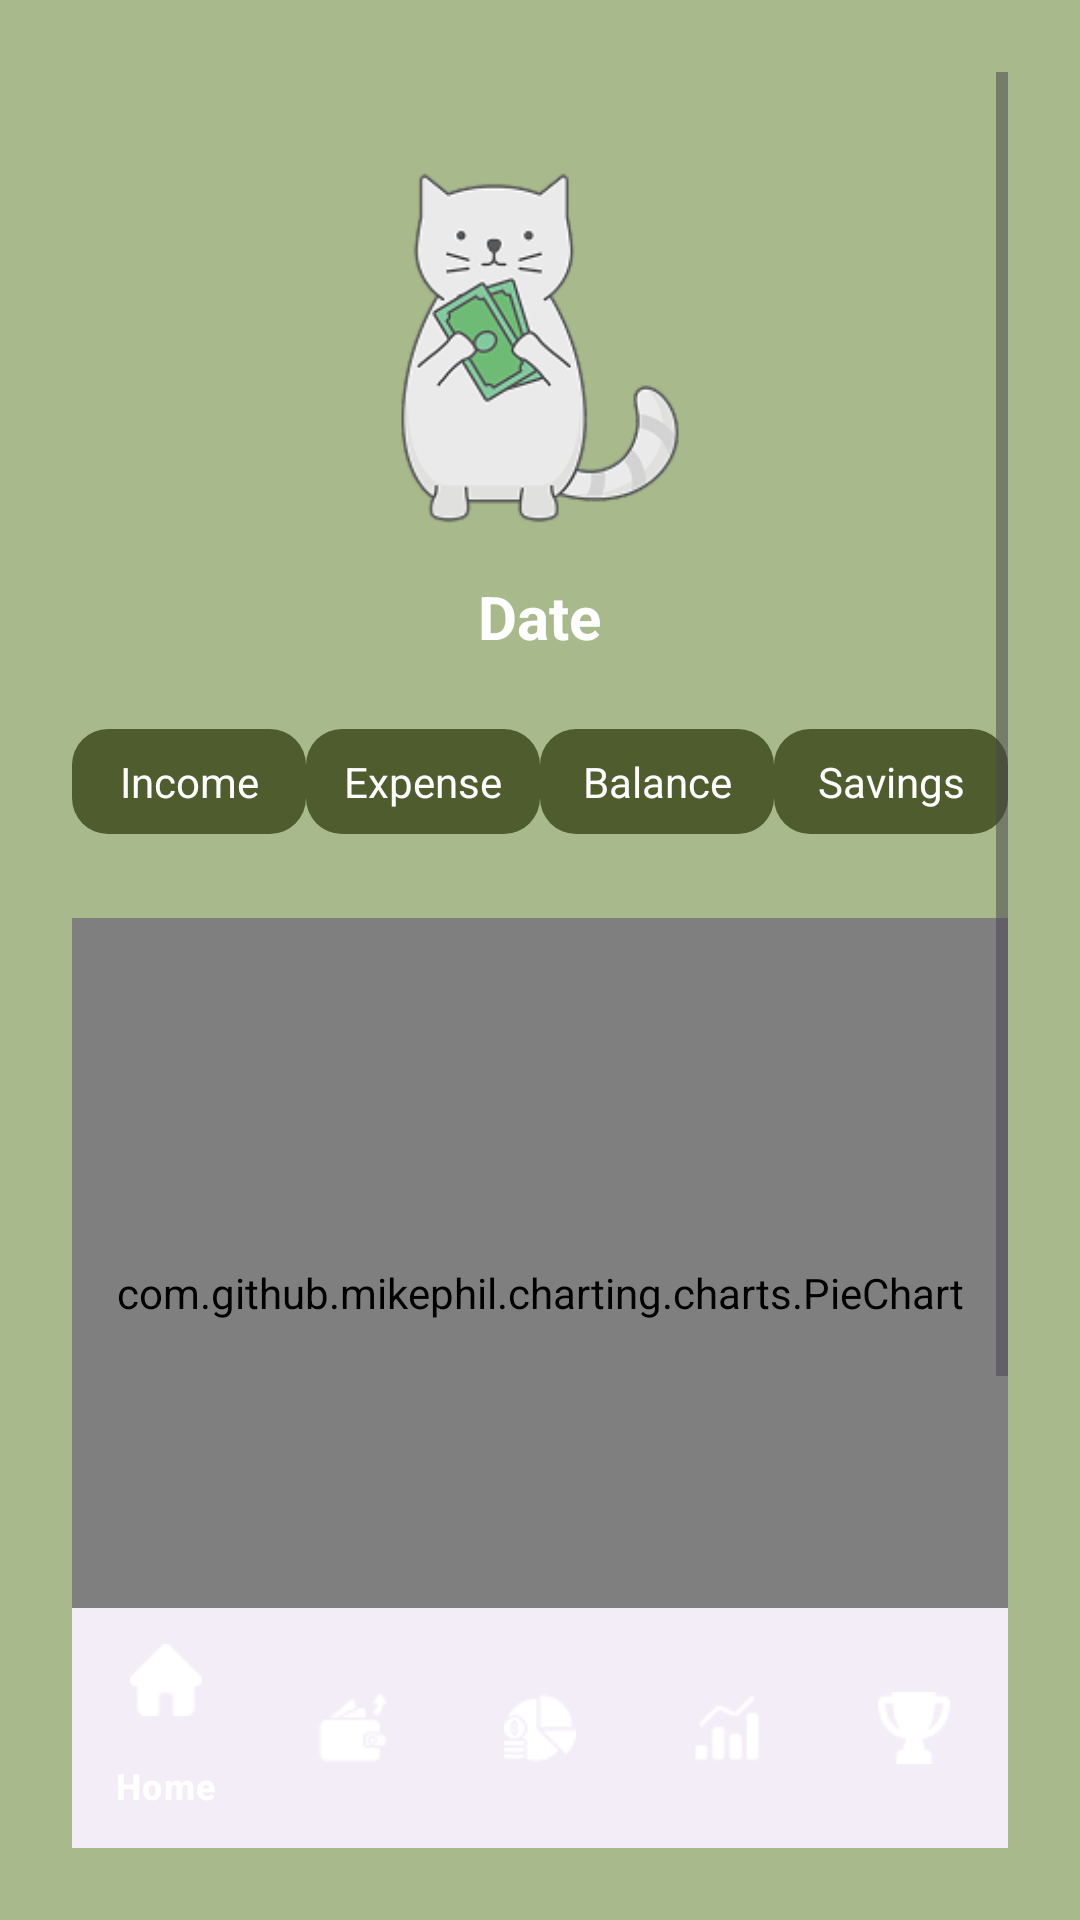

Screen size 1080w x 1920h. Icon name, then its center in pixels as point (x, y):
cat: point (540, 348)
